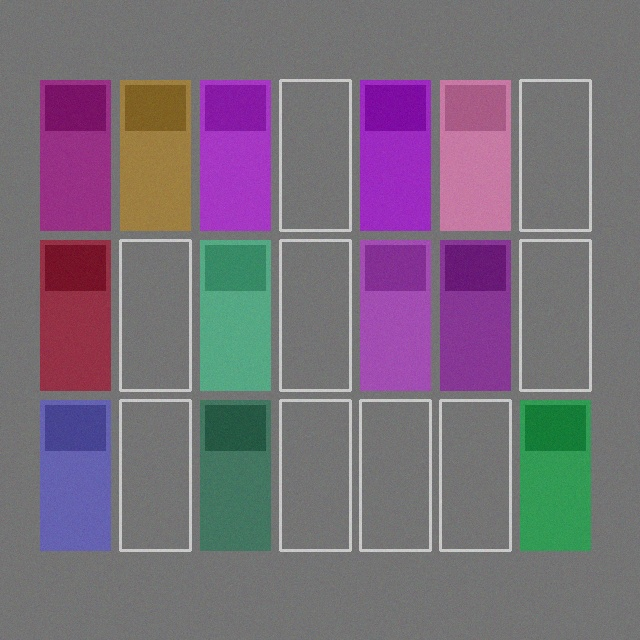space-empty: (280, 80, 350, 230), (520, 80, 590, 230), (120, 240, 190, 390), (280, 240, 350, 390), (520, 240, 590, 390), (120, 400, 190, 550), (280, 400, 350, 550), (360, 400, 430, 550), (440, 400, 510, 550)
space-occupied: (40, 80, 110, 230), (120, 80, 190, 230), (200, 80, 270, 230), (360, 80, 430, 230), (440, 80, 510, 230), (40, 240, 110, 390), (200, 240, 270, 390), (360, 240, 430, 390), (440, 240, 510, 390), (40, 400, 110, 550), (200, 400, 270, 550), (520, 400, 590, 550)
